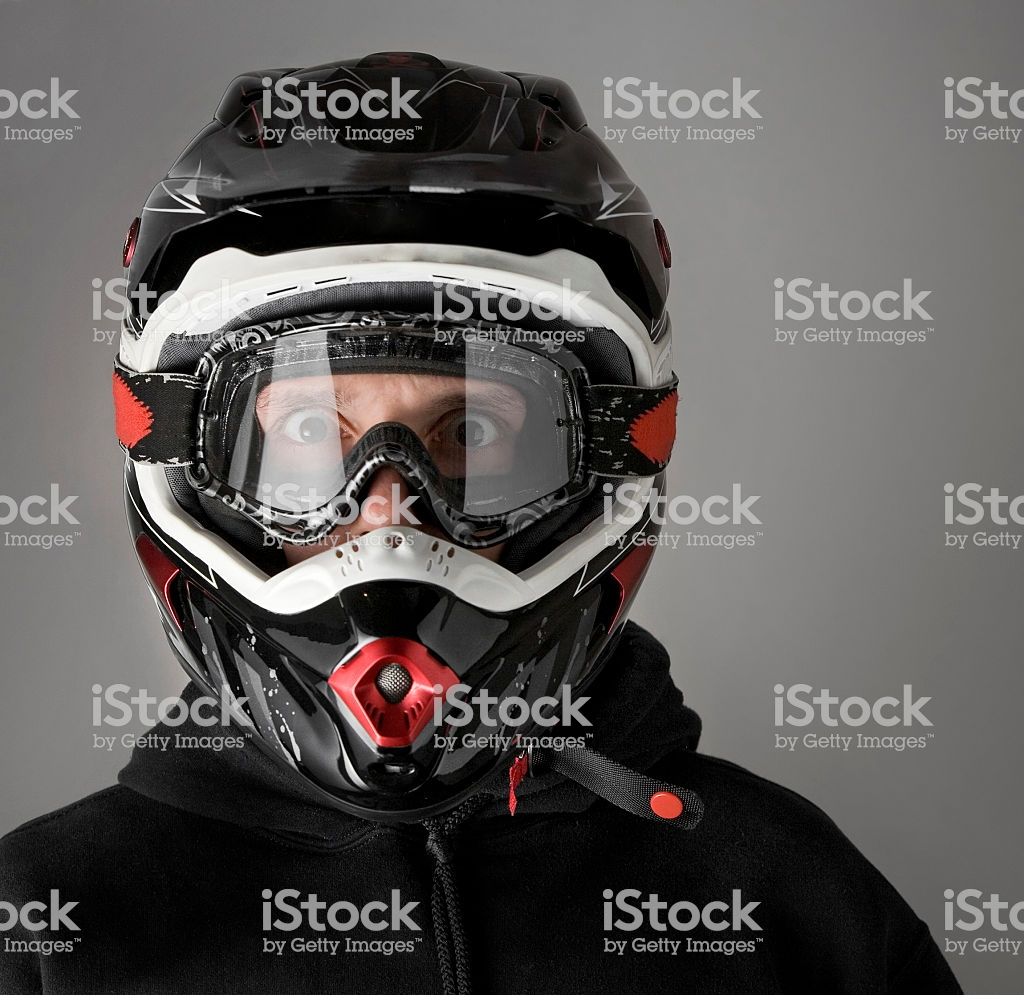helmet: (127, 91, 689, 726)
